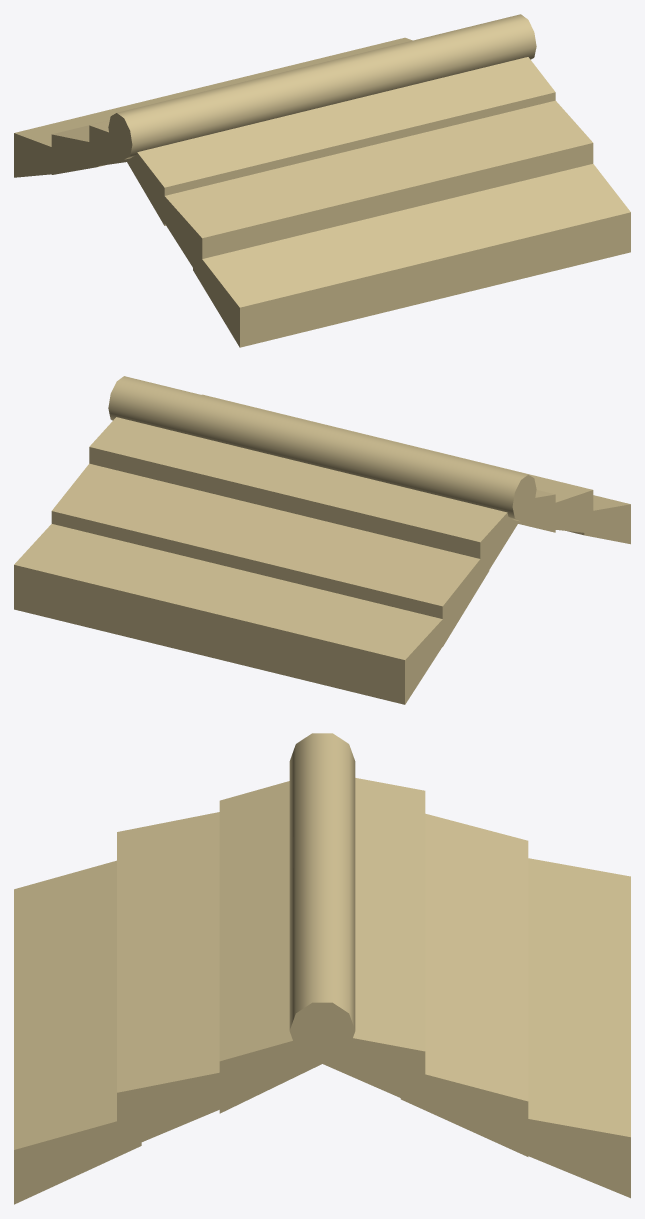
File: thatch_roof_ridge_low.glb
3 renders of one model, top to bottom at view 1: azimuth 30°, elevation 25°; view 2: azimuth 150°, elevation 25°; view 3: azimuth 270°, elevation 25°, orthographic. The views are drawn at different scales.
Parts seen in each view (by area): view 1: Roof; view 2: Roof; view 3: Roof.
Boxes of the visible parts, x1,y1,x2,y2 form: Roof: [14, 14, 630, 347]; Roof: [14, 376, 630, 704]; Roof: [14, 733, 630, 1204].
Bounding box in the file's own units: 3.1 × 1.11 × 3.
